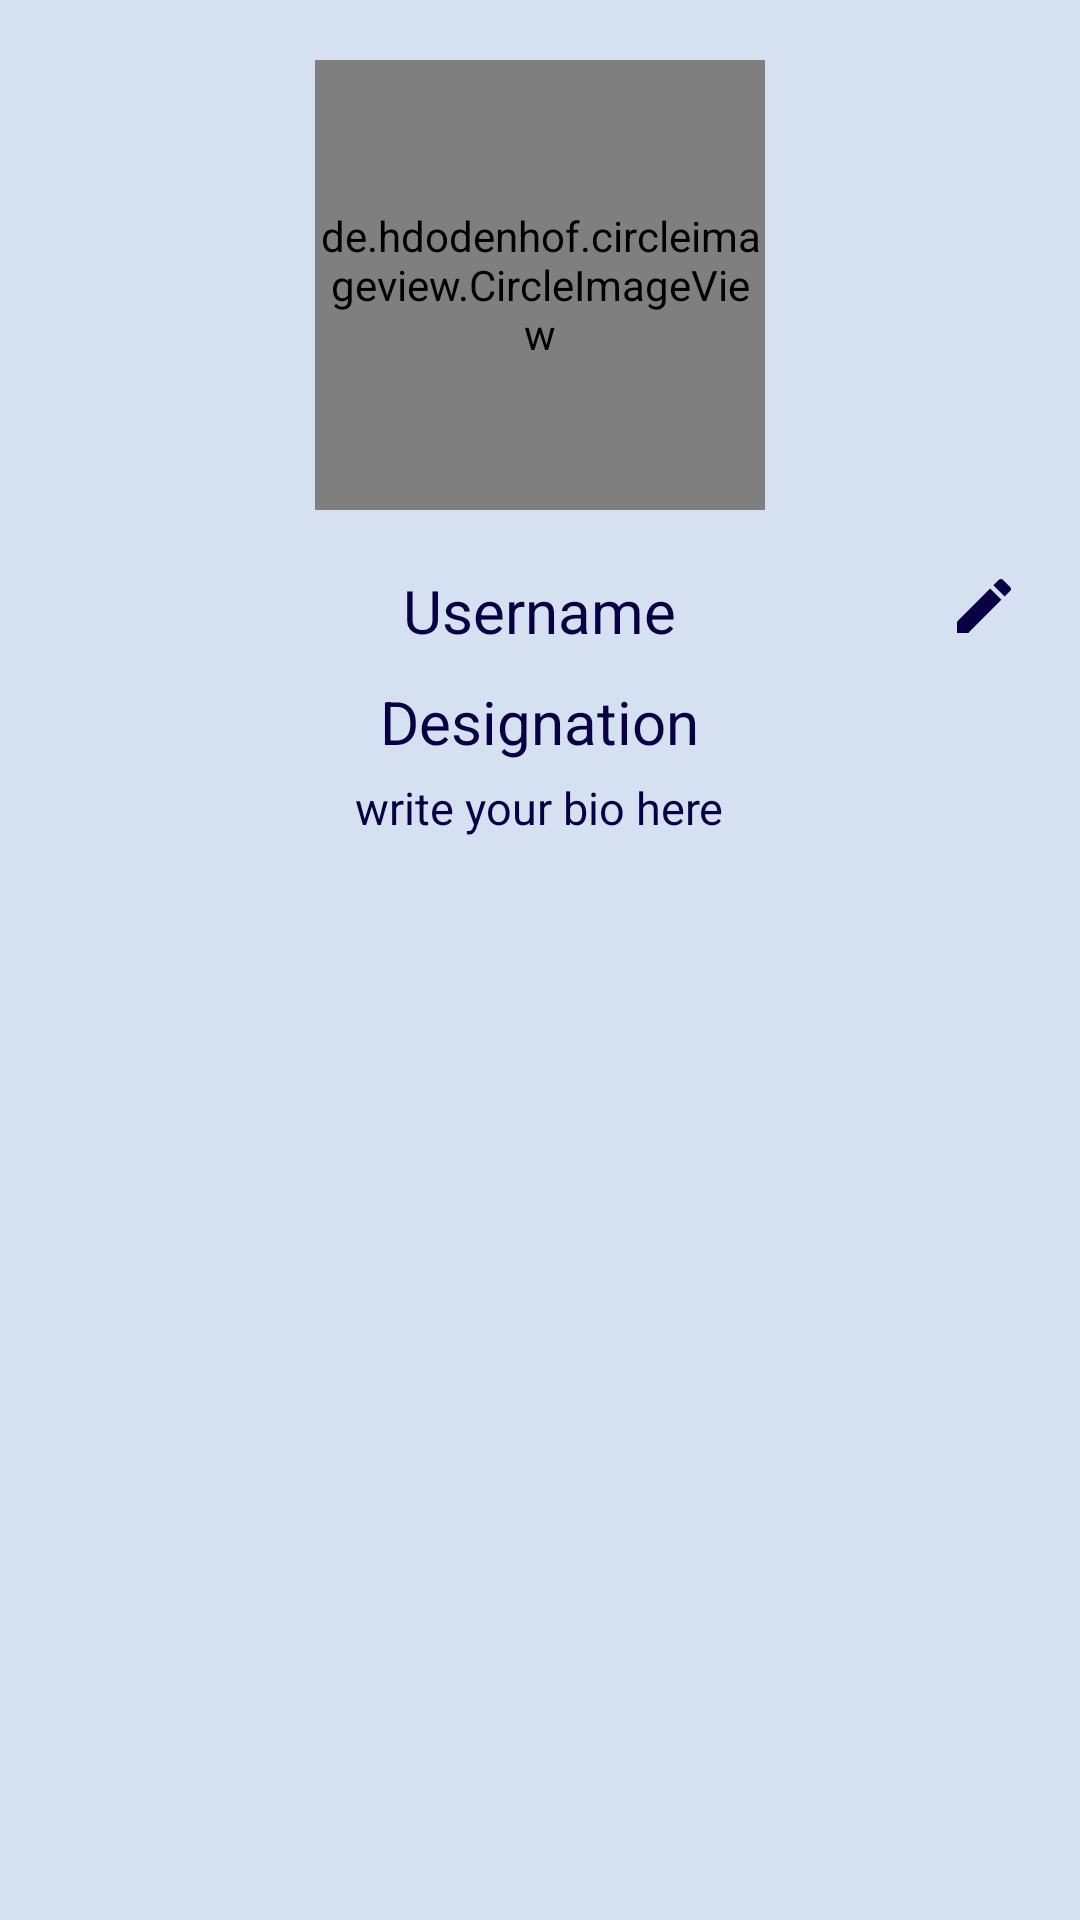

Named icons in this screenshot (1080x1920) and their centers, (x,y):
edit: (984,606)
